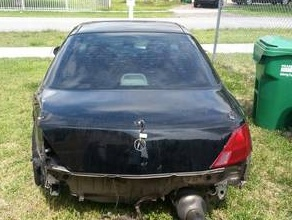acura: (21, 13, 255, 205)
